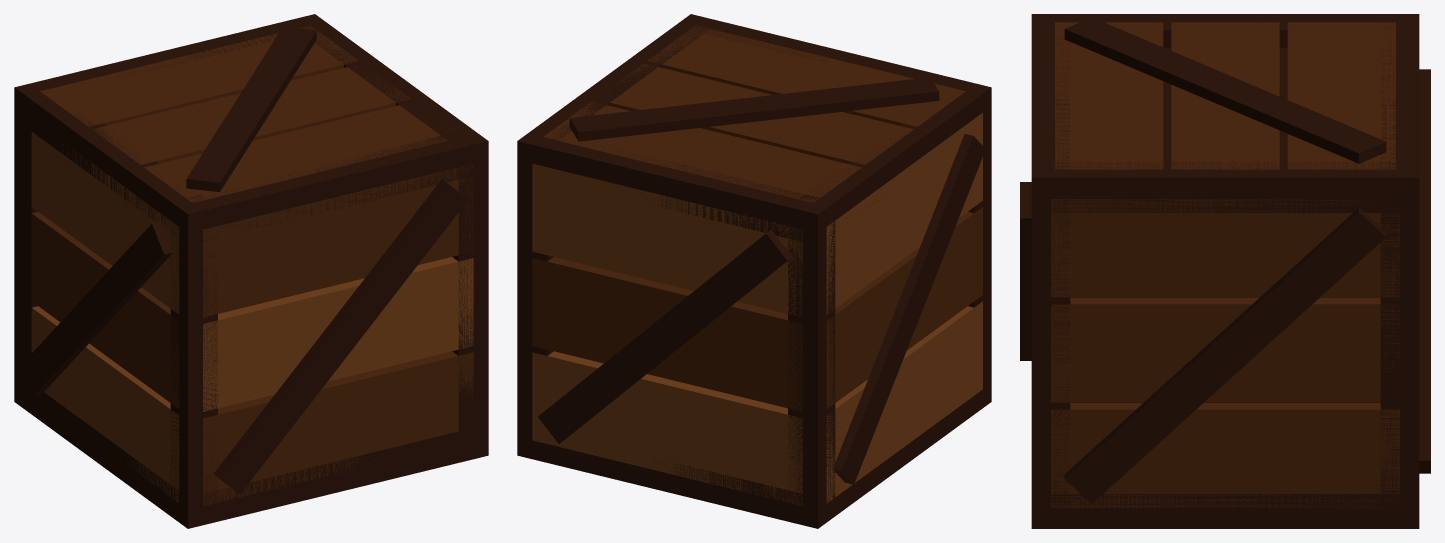
Rendered from SM_Int_Crate_Destructible.glb.
The picture shows the model from 3 angles, left to right: view 1: azimuth 30°, elevation 25°; view 2: azimuth 150°, elevation 25°; view 3: azimuth 270°, elevation 25°; orthographic projection. The views are drawn at different scales.
Visible parts, largest first — view 1: SM_Int_Crate_Destructible; view 2: SM_Int_Crate_Destructible; view 3: SM_Int_Crate_Destructible.
Part boxes in pixels (box(x1,y1,x2,y2)): SM_Int_Crate_Destructible: box(14, 14, 488, 528); SM_Int_Crate_Destructible: box(517, 14, 991, 528); SM_Int_Crate_Destructible: box(1020, 14, 1430, 528).
Bounding box in the file's own units: 1.06 × 1.06 × 1.06.
Materials: 1 (1 with a texture image).
